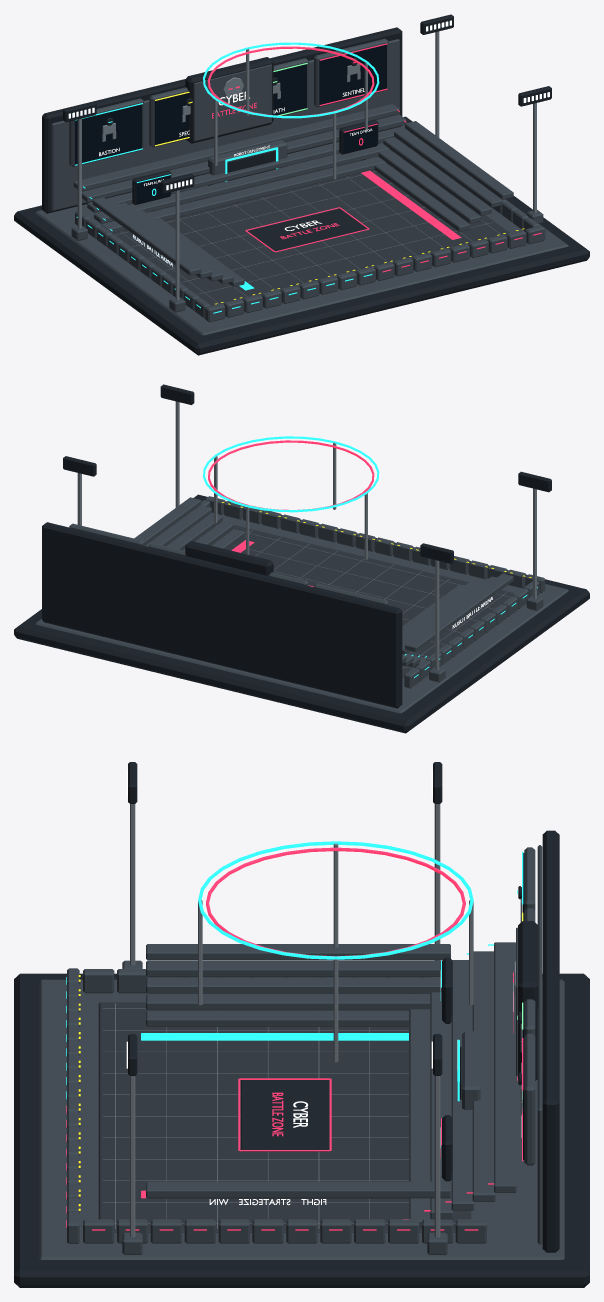
The model's file is cyber_battle_zone.glb.
The picture shows the model from 3 angles, top to bottom: view 1: azimuth 30°, elevation 25°; view 2: azimuth 150°, elevation 25°; view 3: azimuth 270°, elevation 25°; orthographic projection. The views are drawn at different scales.
Visible parts, largest first — view 1: Cyber Battle Zone Arena; view 2: Cyber Battle Zone Arena; view 3: Cyber Battle Zone Arena.
Boxes of the visible parts, x1,y1,x2,y2 form: Cyber Battle Zone Arena: (14,14,589,355); Cyber Battle Zone Arena: (14,384,589,733); Cyber Battle Zone Arena: (14,762,589,1287).
Size of the model in its own units: 42 by 15.69 by 34.
